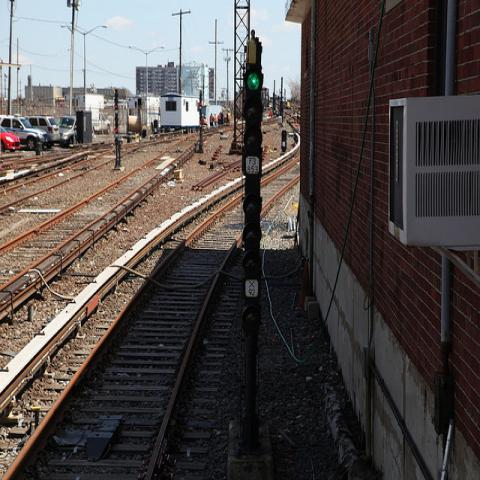car: (1, 114, 48, 151), (26, 116, 60, 141), (0, 126, 21, 152), (58, 116, 77, 144), (99, 119, 112, 135)
truck: (64, 93, 111, 136), (0, 111, 48, 150), (160, 95, 200, 134), (25, 116, 60, 148), (59, 116, 77, 148)
